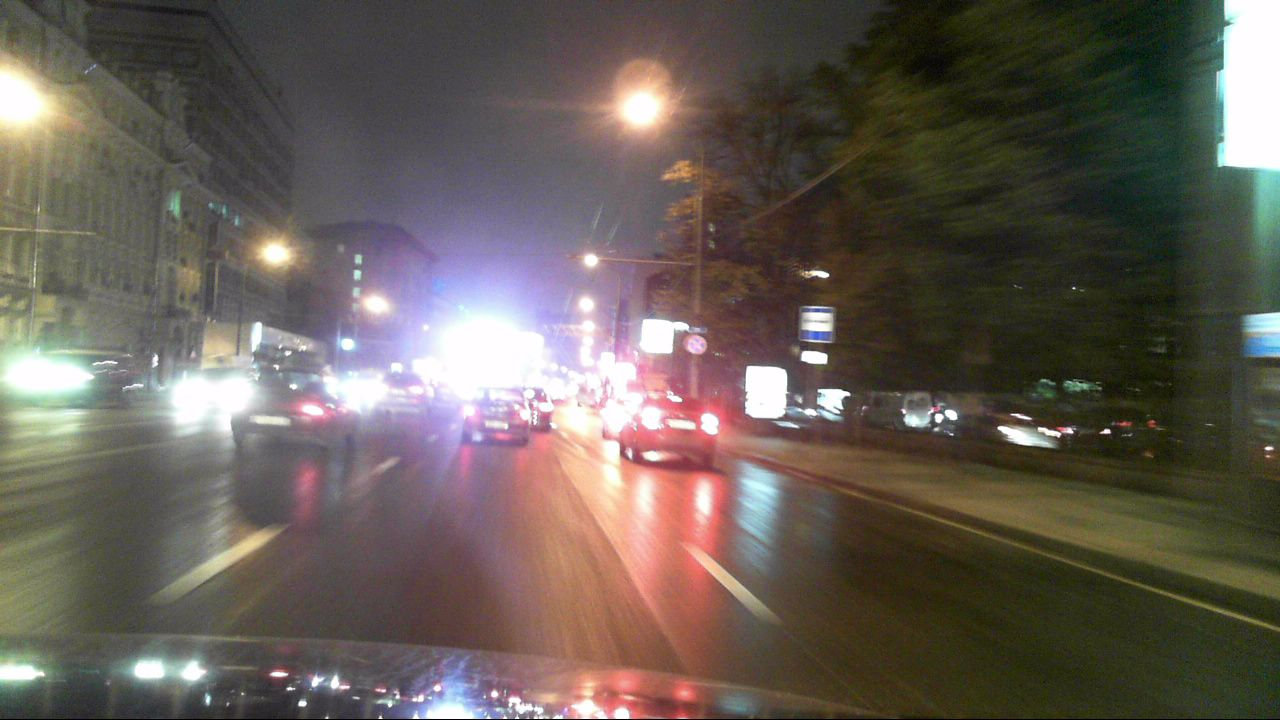No Parking: (684, 336, 707, 356)
